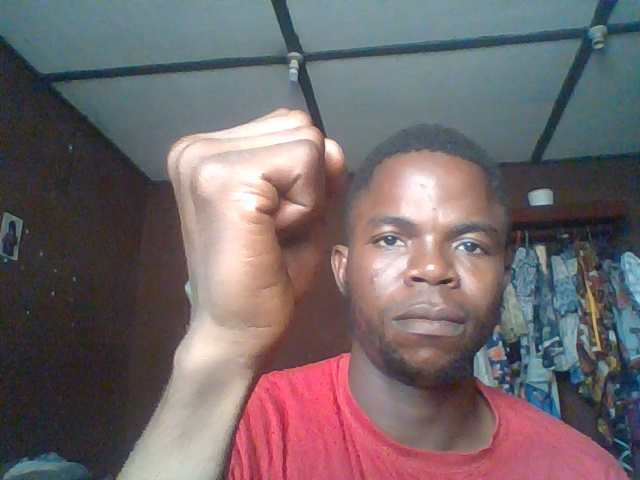Unity: (156, 107, 351, 372)
